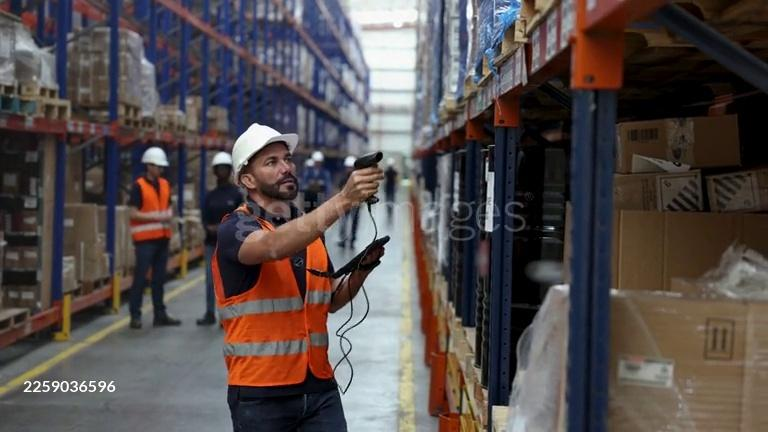helmet: (231, 123, 299, 174), (141, 147, 170, 167), (212, 152, 232, 171)
person: (211, 123, 386, 431), (123, 146, 180, 330), (198, 152, 243, 325)
